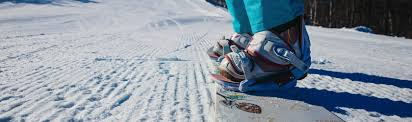snowboard: (204, 43, 348, 122)
